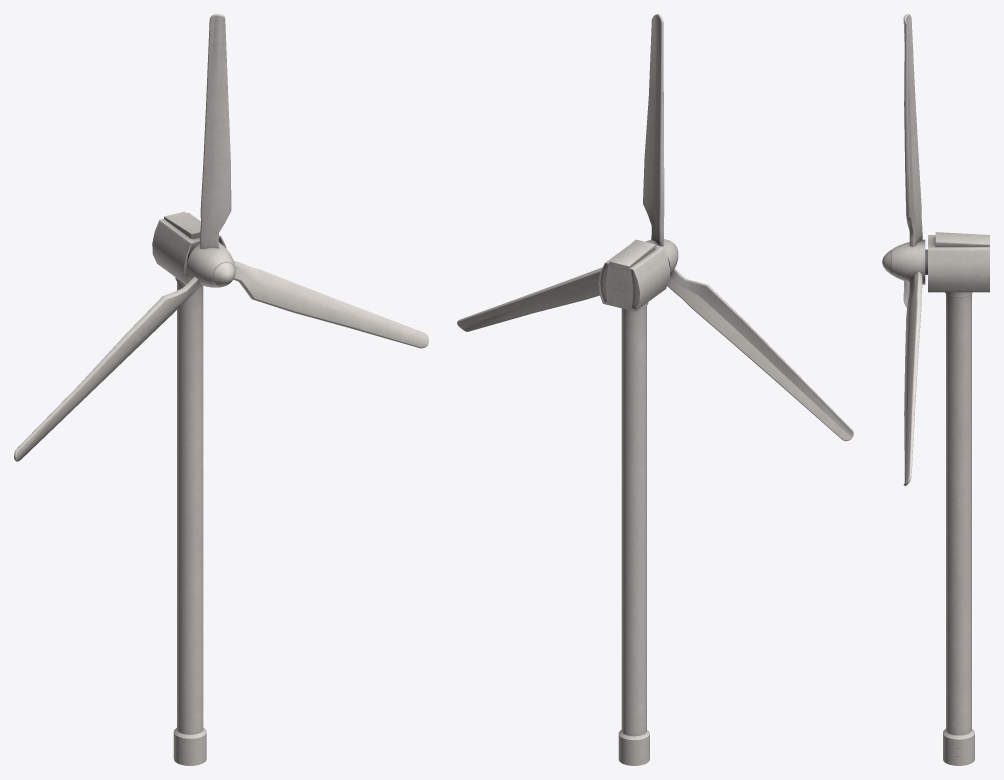
The model's file is wind_turbine.dae.
3 views of the same model, side by side, from view 1: azimuth 30°, elevation 25°; view 2: azimuth 150°, elevation 25°; view 3: azimuth 270°, elevation 25° (orthographic). The views are drawn at different scales.
Parts seen in each view (by area): view 1: Blades, Main Unit; view 2: Main Unit, Blades; view 3: Main Unit, Blades.
Boxes of the visible parts, x1,y1,x2,y2 form: Blades: [14, 14, 428, 461]; Main Unit: [152, 211, 226, 765]; Main Unit: [598, 239, 670, 765]; Blades: [457, 14, 853, 441]; Main Unit: [928, 232, 989, 765]; Blades: [882, 14, 927, 486].
Bounding box in the file's own units: 162 × 37.48 × 285.
1 material, 1 textured.
